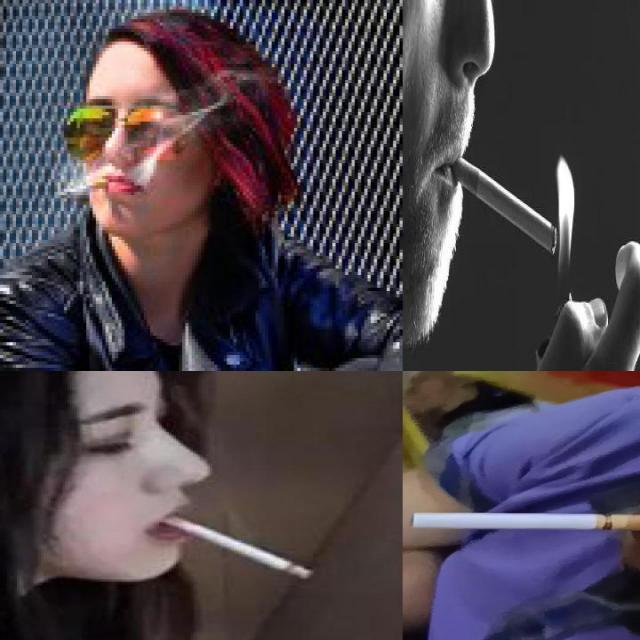rokok: (135, 507, 331, 585), (446, 150, 558, 256), (414, 513, 638, 533), (58, 178, 110, 198)
